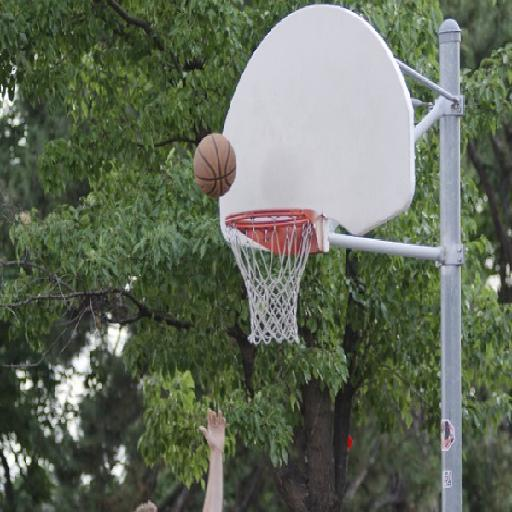ball: (190, 132, 237, 197)
